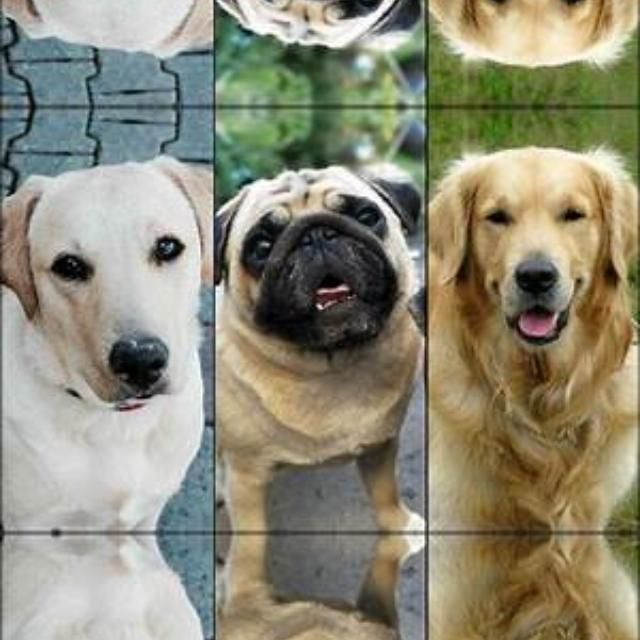dog: (0, 150, 222, 491), (436, 126, 638, 484), (218, 159, 432, 479), (436, 0, 638, 86), (0, 573, 222, 640), (0, 0, 222, 61), (436, 580, 638, 640), (218, 586, 432, 640), (218, 0, 432, 53)
